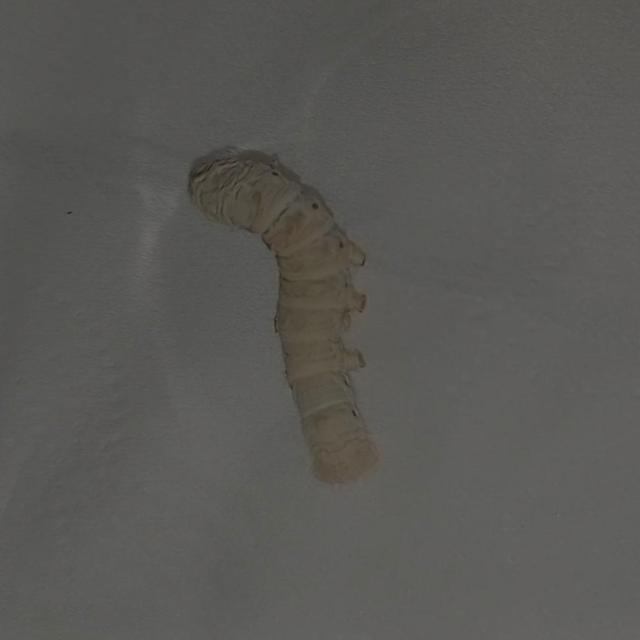Healthy: (170, 119, 411, 504)
